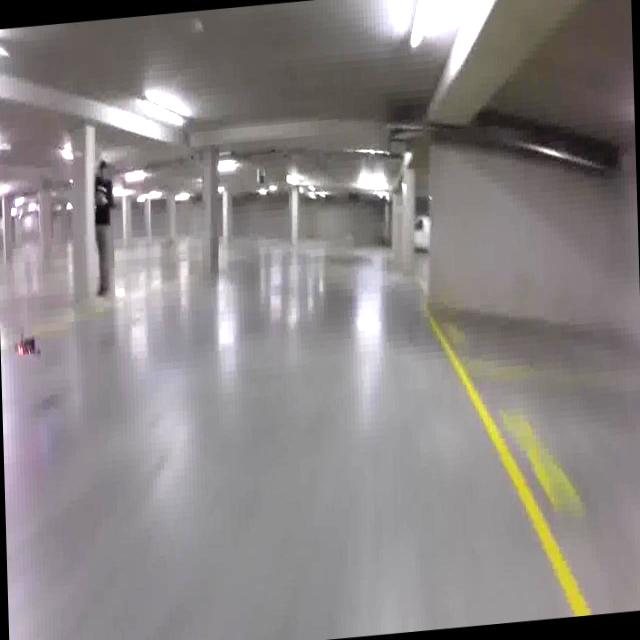drone: (10, 322, 40, 367)
